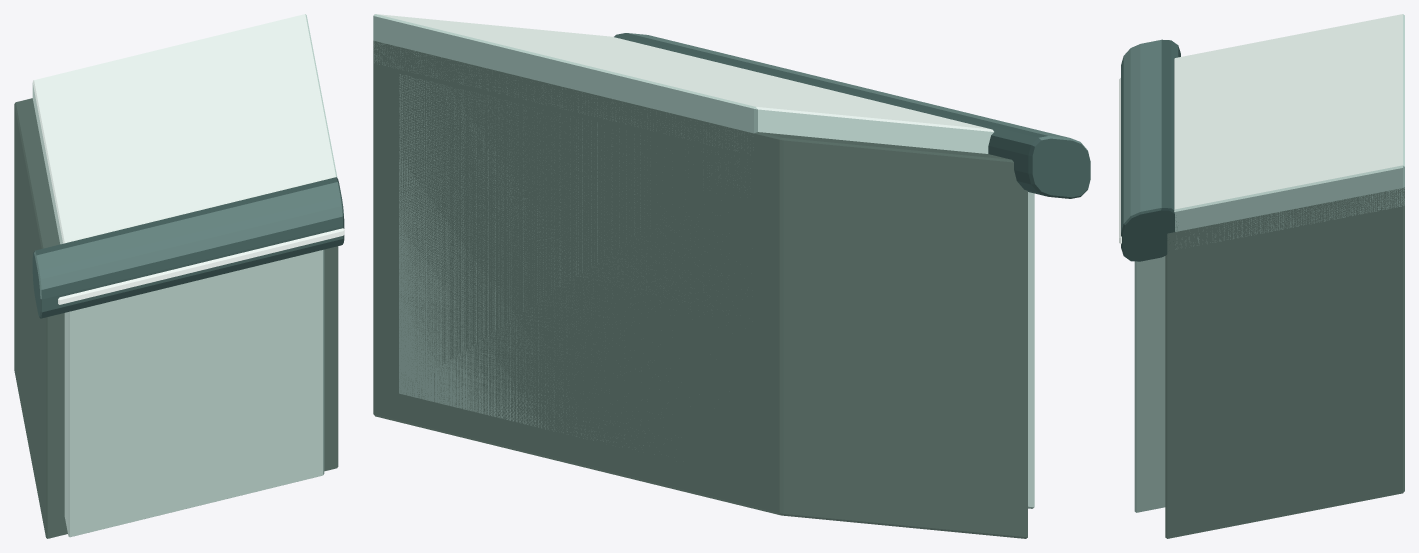
Rendered from Terrain_TopRun1L.gltf.
3 views of the same model, side by side, from view 1: azimuth 30°, elevation 25°; view 2: azimuth 150°, elevation 25°; view 3: azimuth 270°, elevation 25° (orthographic). The views are drawn at different scales.
Visible parts, largest first — view 1: Terrain_TopRun1L_baked; view 2: Terrain_TopRun1L_baked; view 3: Terrain_TopRun1L_baked.
Part boxes in pixels (bbox=[...]): Terrain_TopRun1L_baked: bbox=[14, 14, 344, 538]; Terrain_TopRun1L_baked: bbox=[373, 14, 1090, 538]; Terrain_TopRun1L_baked: bbox=[1119, 14, 1404, 538].
Size of the model in its own units: 1.33 by 1.18 by 0.74.
